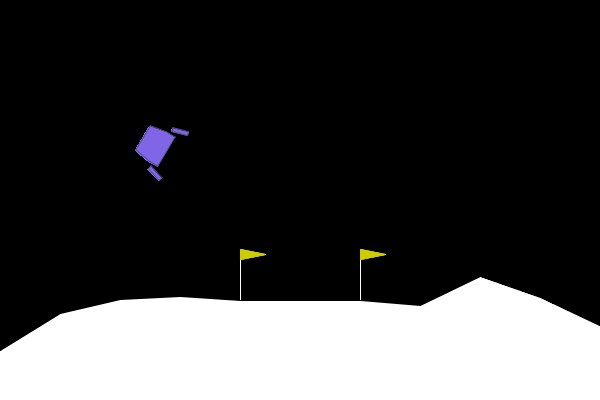lander: (125, 111, 191, 183)
